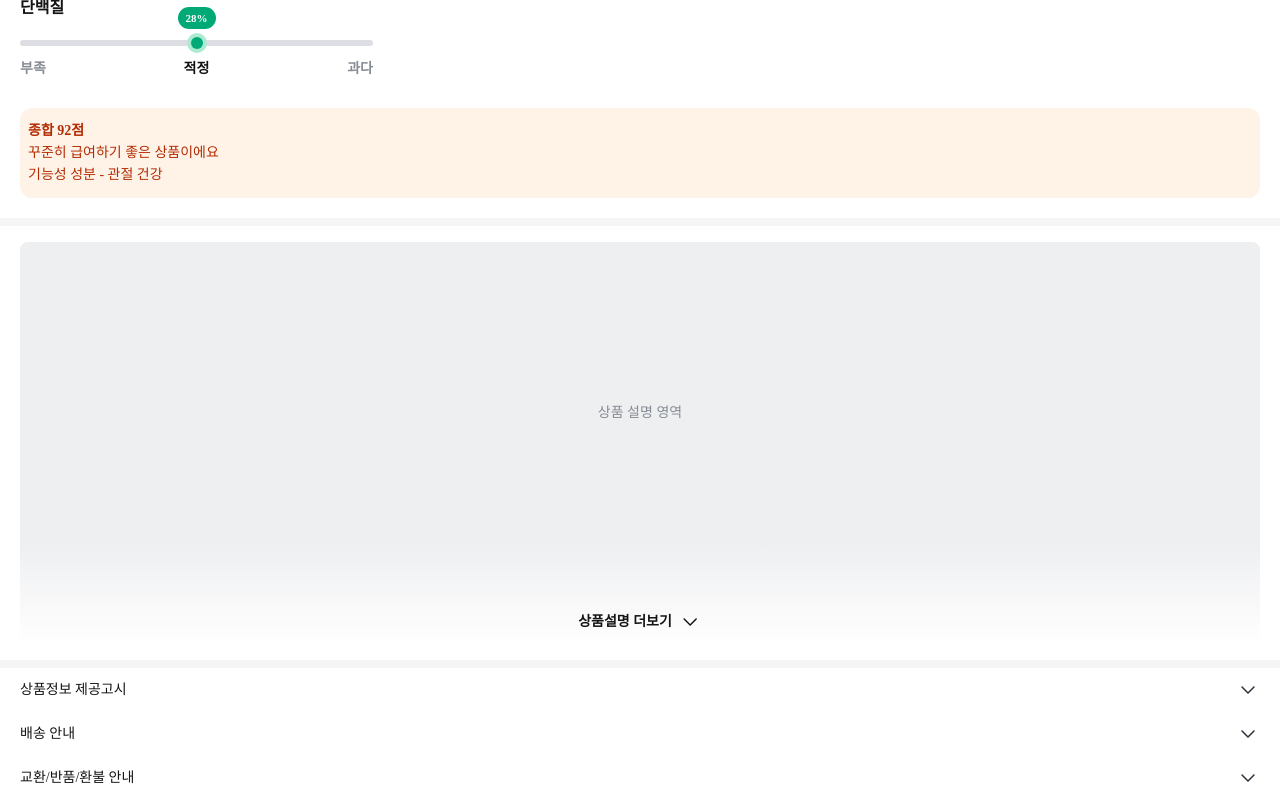
Test: 상품정보 하단 안내 › 소제목을 랜드마크가 아니라 제목 요소로 그린다
(page scrolled)
Click the button "상품정보 제공고시" at (73, 690), box [20,668,1260,712]
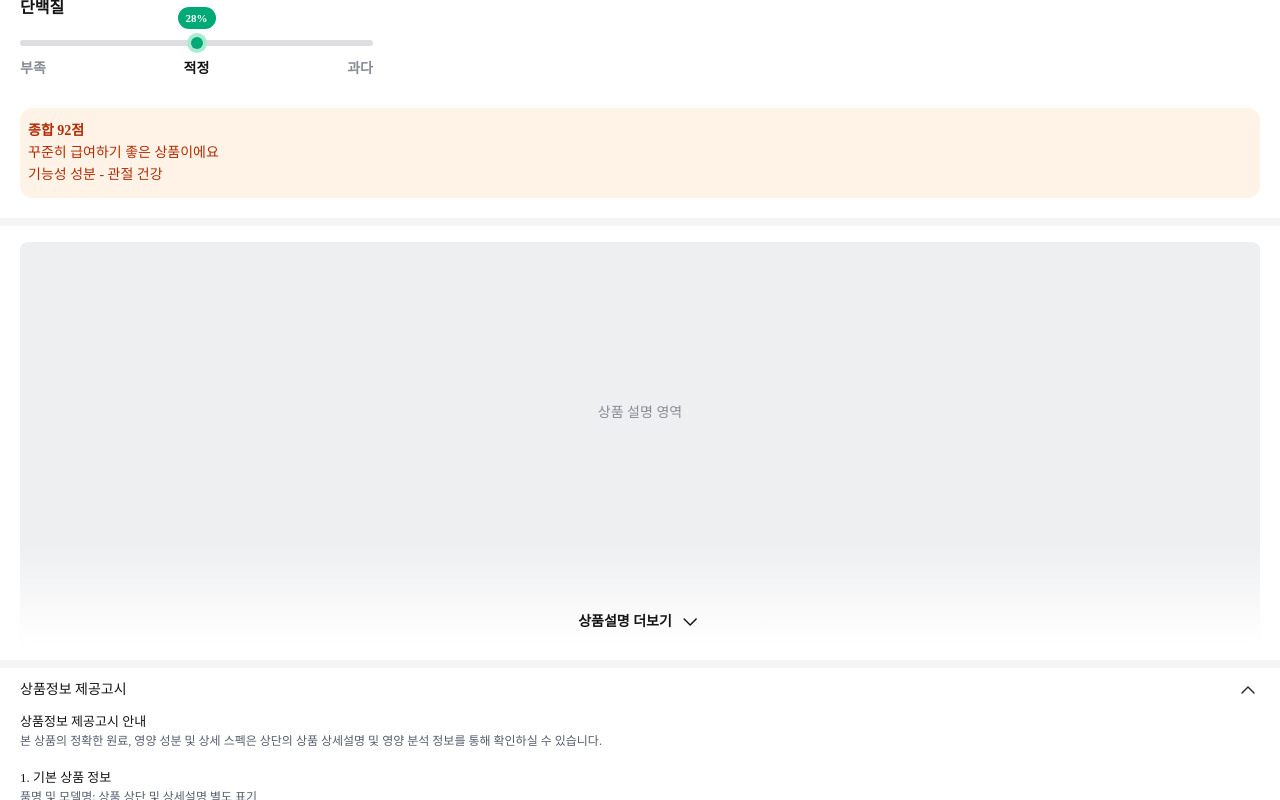
expect the heading "1. 기본 상품 정보" is shown: met, box [20,770,111,785]
